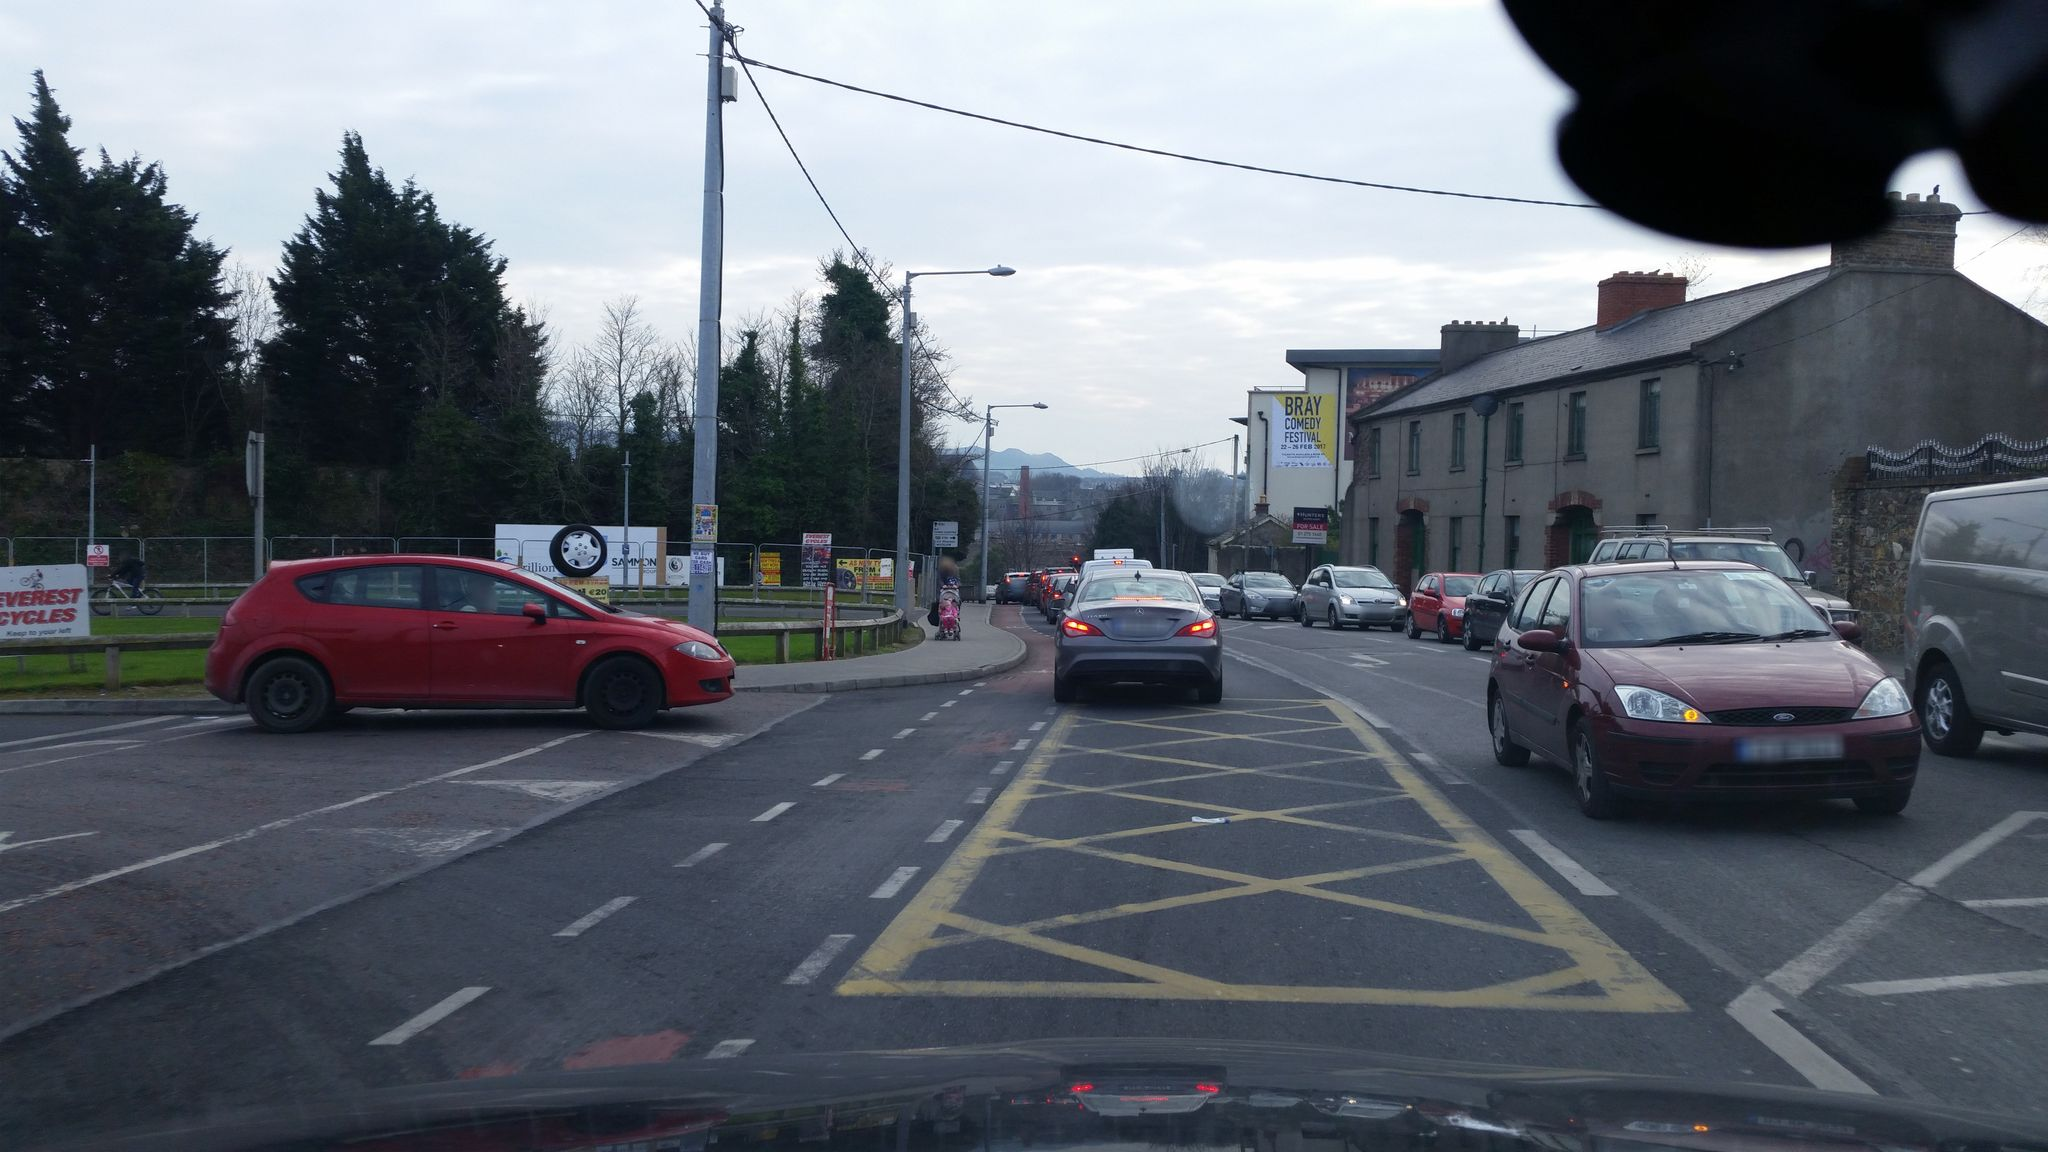property sign: (1283, 501, 1333, 556)
